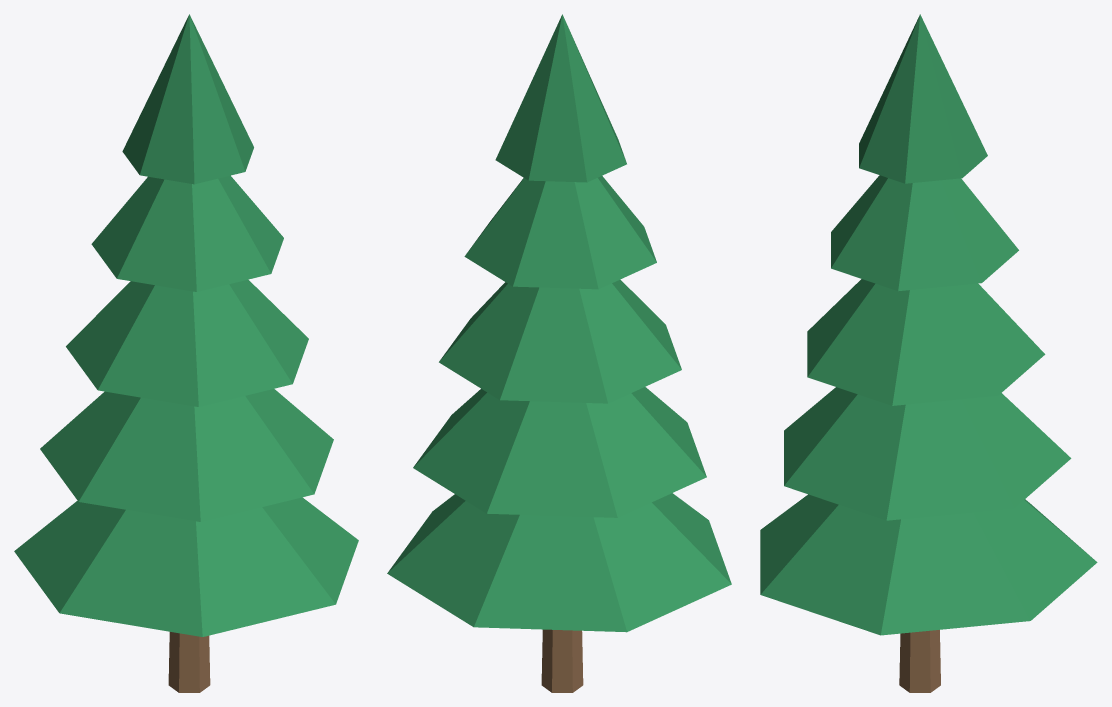
File: Tree_05_Spruce.fbx
The picture shows the model from 3 angles, left to right: view 1: azimuth 30°, elevation 25°; view 2: azimuth 150°, elevation 25°; view 3: azimuth 270°, elevation 25°; orthographic projection.
Visible parts, largest first — view 1: Tree_05_Spruce; view 2: Tree_05_Spruce; view 3: Tree_05_Spruce.
Part boxes in pixels (box(x1,y1,x2,y2)): Tree_05_Spruce: box(14, 14, 358, 692); Tree_05_Spruce: box(387, 14, 731, 692); Tree_05_Spruce: box(760, 14, 1097, 692).
Bounding box in the file's own units: 3.31 × 7.1 × 3.23.
